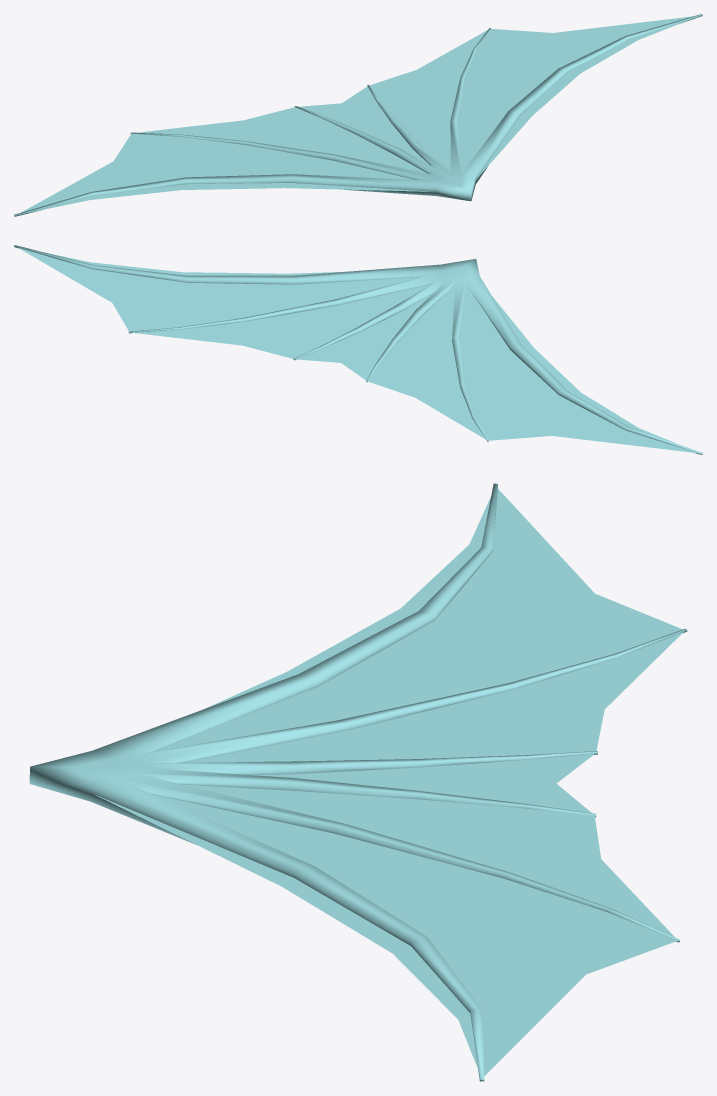
File: A.Fan.fbx
The picture shows the model from 3 angles, top to bottom: view 1: azimuth 30°, elevation 25°; view 2: azimuth 150°, elevation 25°; view 3: azimuth 270°, elevation 25°; orthographic projection. The views are drawn at different scales.
Parts seen in each view (by area): view 1: Fan_plane_low_LOD0, Fan_low_LOD0; view 2: Fan_plane_low_LOD0, Fan_low_LOD0; view 3: Fan_plane_low_LOD0, Fan_low_LOD0.
Boxes of the visible parts, box(x1,y1,x2,y2) form: Fan_plane_low_LOD0: box(21, 16, 692, 212); Fan_low_LOD0: box(14, 14, 702, 216); Fan_plane_low_LOD0: box(19, 248, 696, 452); Fan_low_LOD0: box(14, 245, 702, 454); Fan_plane_low_LOD0: box(96, 488, 683, 1075); Fan_low_LOD0: box(29, 483, 687, 1081).
Size of what is drawn, in the model's own units: 0.6111 by 0.0771 by 1.47.
